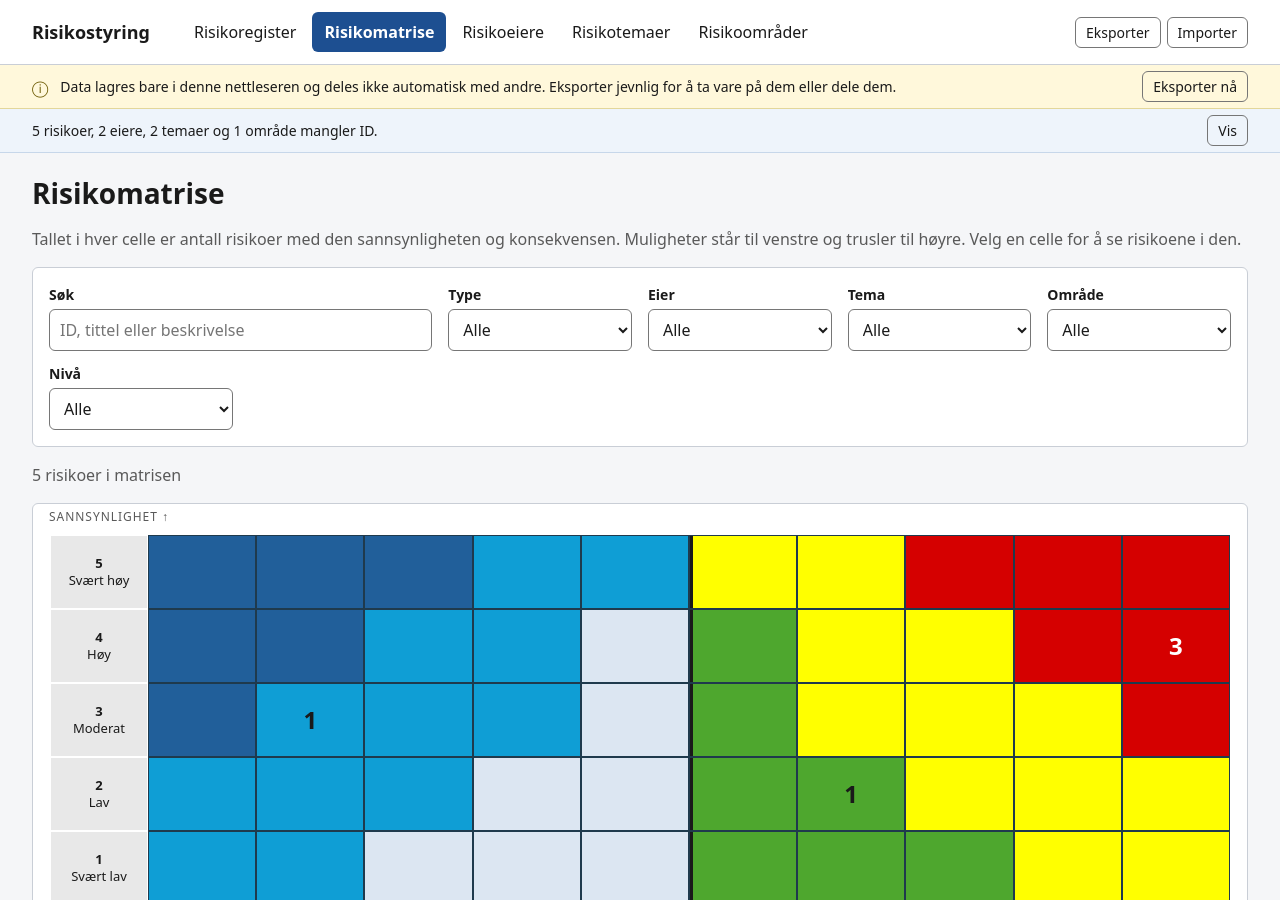
Test case: filtre i matrisen (K9) › endrer antallene når et tema velges (akseptkriterium)
Expected: the heading "Risikomatrise" is shown, [32,174,224,212]
Select "Sikkerhet" in the dropdown labelled "Tema" at point(940, 330), box [848,309,1031,351]
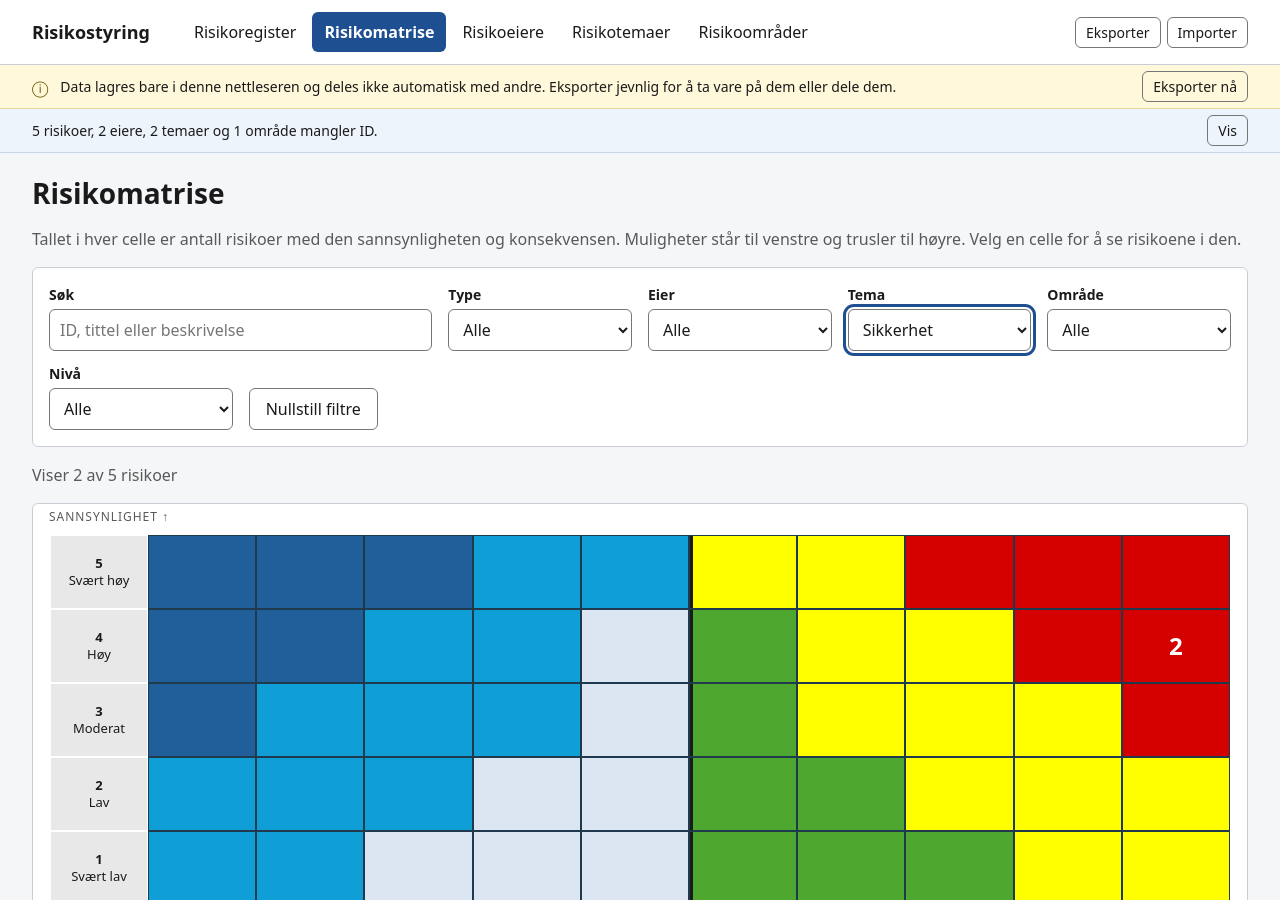
Now the text "Viser 2 av 5 risikoer" is shown, box [32,464,178,486]
